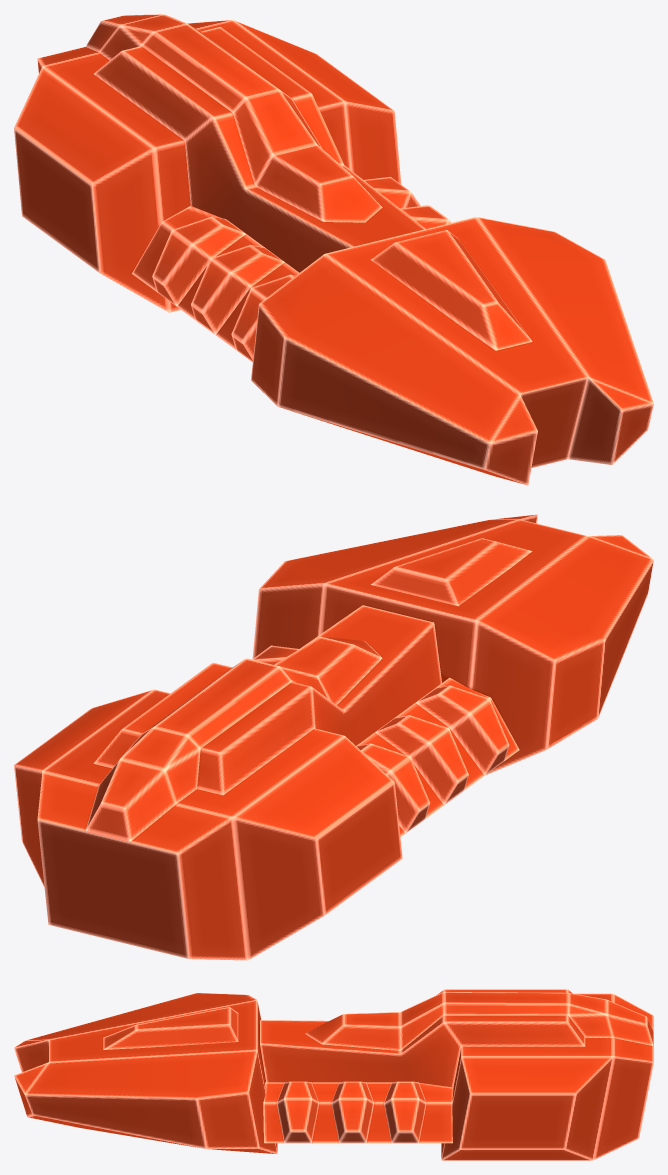
The model's file is enemy_assault.FBX.
The picture shows the model from 3 angles, top to bottom: view 1: azimuth 30°, elevation 25°; view 2: azimuth 150°, elevation 25°; view 3: azimuth 270°, elevation 25°; orthographic projection. The views are drawn at different scales.
Visible parts, largest first — view 1: Assault_bot_enemy; view 2: Assault_bot_enemy; view 3: Assault_bot_enemy.
Part boxes in pixels (<box>): Assault_bot_enemy: <box>14,14,653,485</box>; Assault_bot_enemy: <box>14,514,653,960</box>; Assault_bot_enemy: <box>14,989,653,1160</box>.
Bounding box in the file's own units: 25.21 × 14.61 × 64.38.
